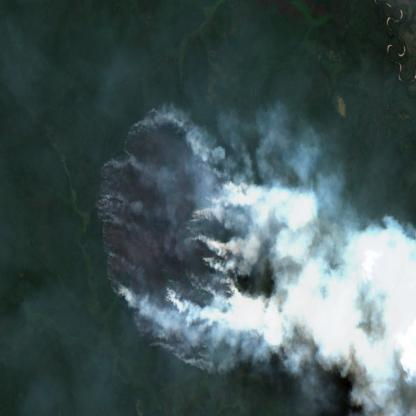fire: (90, 109, 233, 373)
